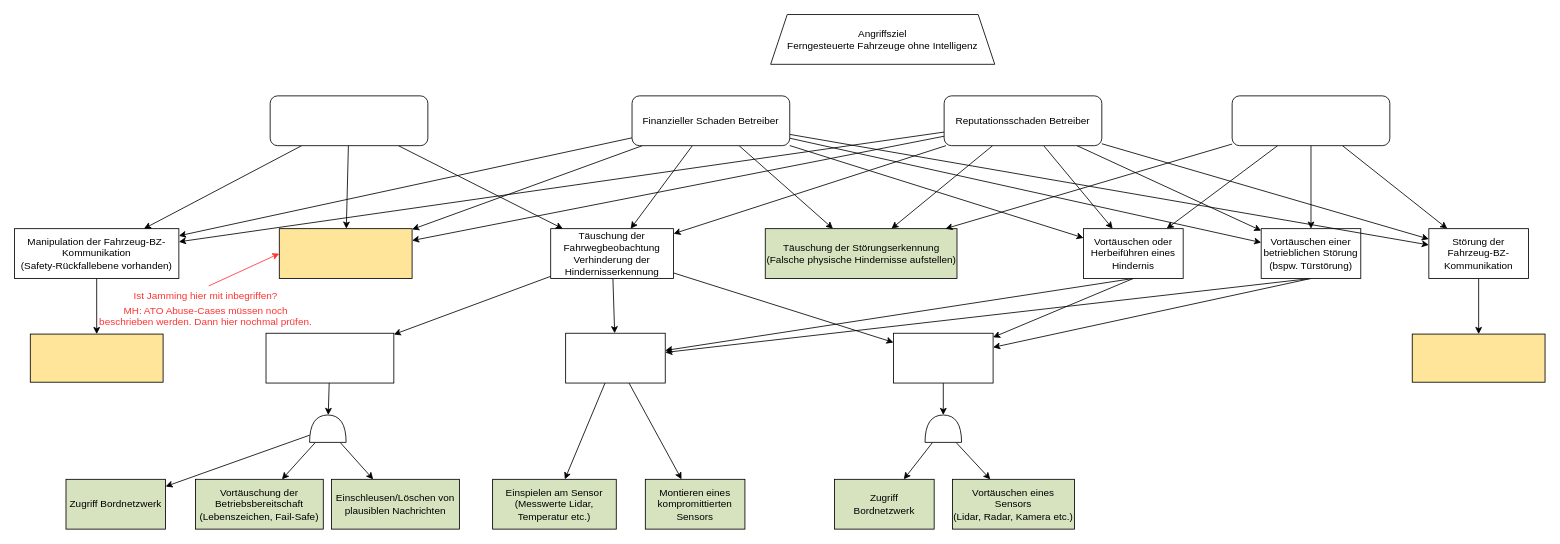
Image size: 1560x544. Some labels were removed from this diagram. The centre of each missing label's shape, as x and y in pixels:
"Einschränkung einer kritischen Dienstleistung" belongs at point (1310, 120).
"Einspielen falscher Sensordaten" belongs at point (615, 357).
"Jamming FRMCS/Satellitenfunk" belongs at point (1478, 357).
"Manipulation der Fahrsteuerung (siehe Anwendungsfall ATO)" belongs at point (345, 253).
"Sensor emulieren" belongs at point (943, 357).
"Spoofing FRMCS/Satellitenfunk" belongs at point (96, 357).
"Verhinderung der Hindernismeldung Fälschung der Freimeldung" belongs at point (329, 357).
"Verletzung der körperlichen Unversehrtheit" belongs at point (348, 120).
